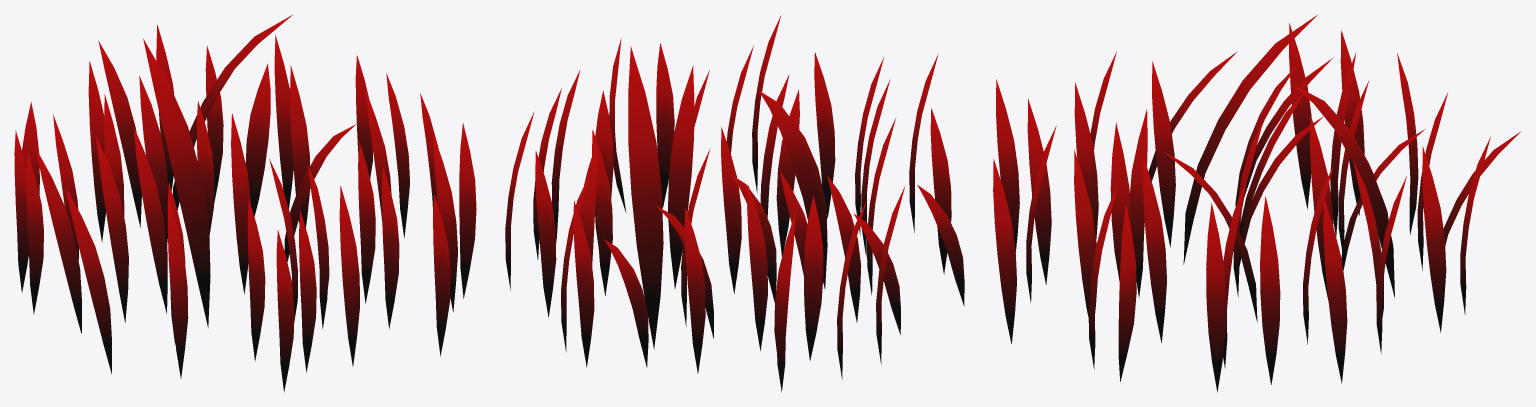
File: grass.fbx
3 renders of one model, left to right at view 1: azimuth 30°, elevation 25°; view 2: azimuth 150°, elevation 25°; view 3: azimuth 270°, elevation 25°, orthographic. The views are drawn at different scales.
Visible parts, largest first — view 1: Plane; view 2: Plane; view 3: Plane.
Part boxes in pixels (x1,y1,x2,y2): Plane: (14,14,476,392); Plane: (505,15,964,392); Plane: (993,15,1521,392).
Size of the model in its own units: 2.72 by 1.7 by 3.17.
